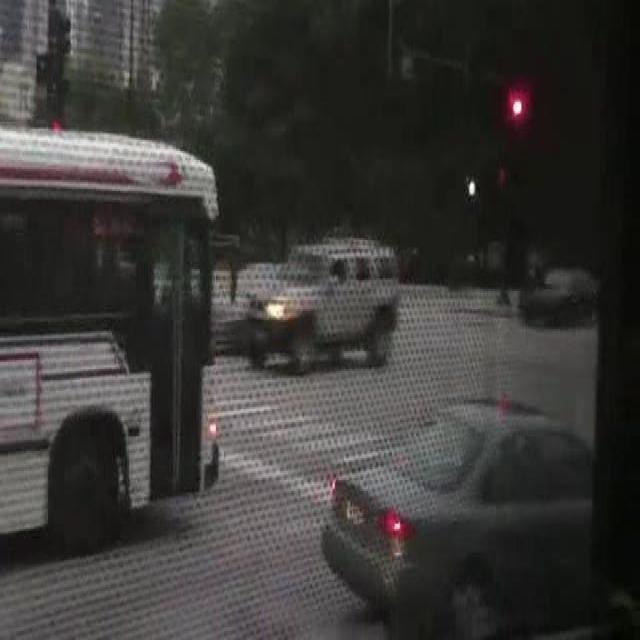other: (256, 276, 301, 344), (495, 68, 535, 132)
